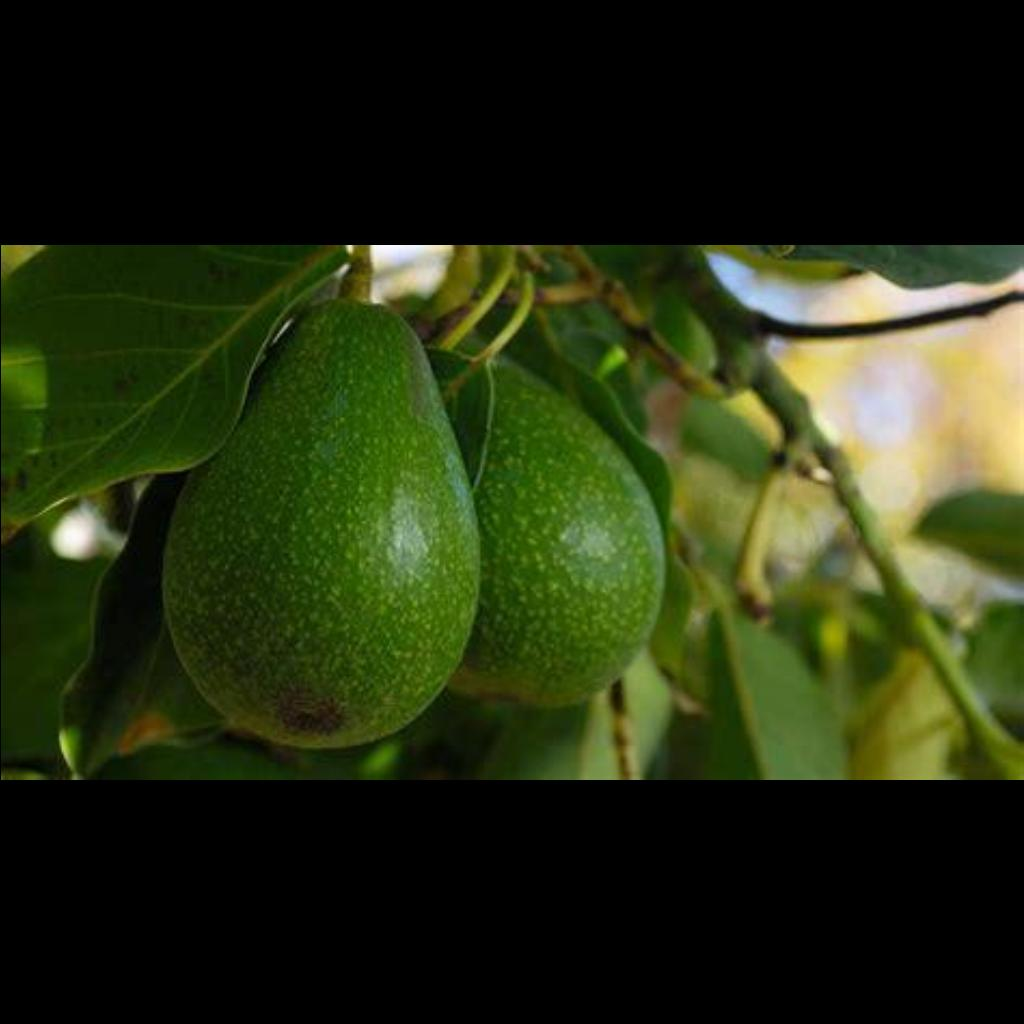Healthy: (166, 308, 472, 738), (487, 352, 647, 686)
